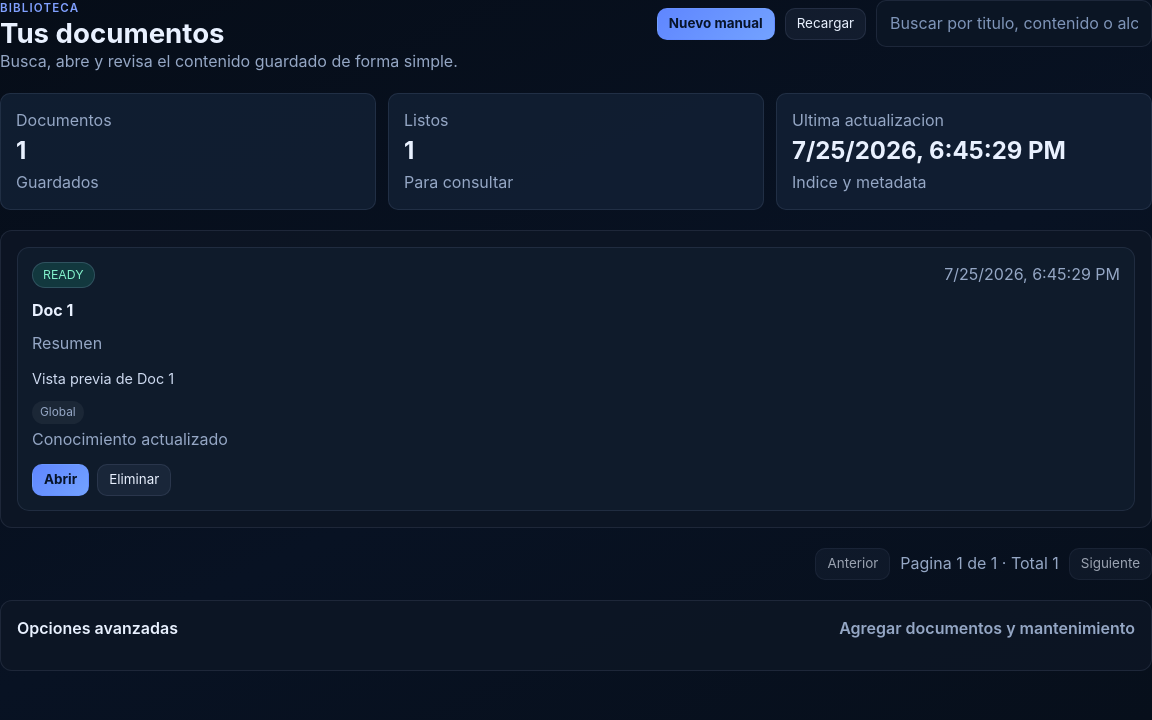
Test: DocumentsPage › renders backend suggestions in add manual modal
Expected: the heading "Doc 1" is shown, [32, 300, 74, 320]
Step 1. Click the button "Nuevo manual" → (716, 24), box [657, 8, 775, 40]
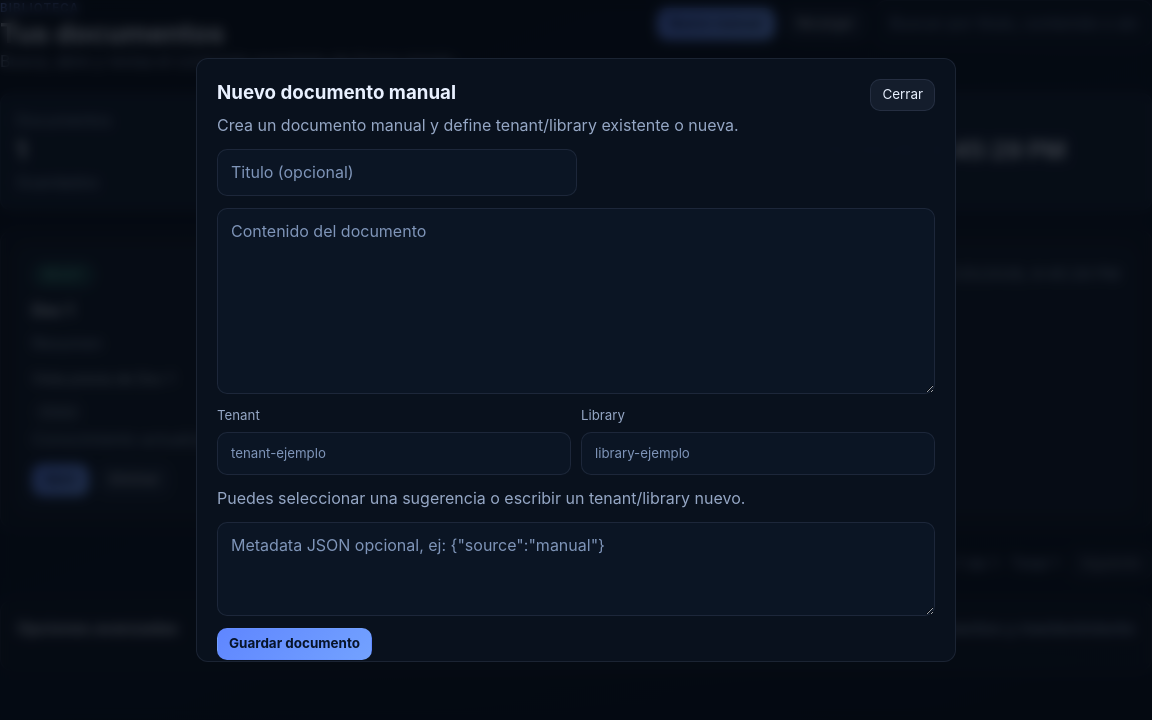
Expected: the text "Puedes seleccionar una sugerencia o escribir un tenant/library nuevo." is shown, [217, 488, 745, 508]
